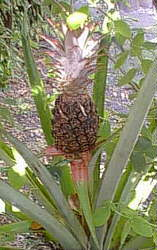pineapple: (38, 18, 112, 155)
